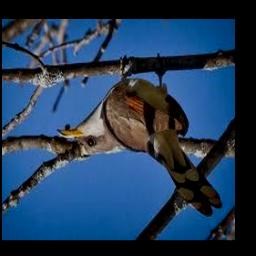Cuckoo: (56, 69, 221, 217)
